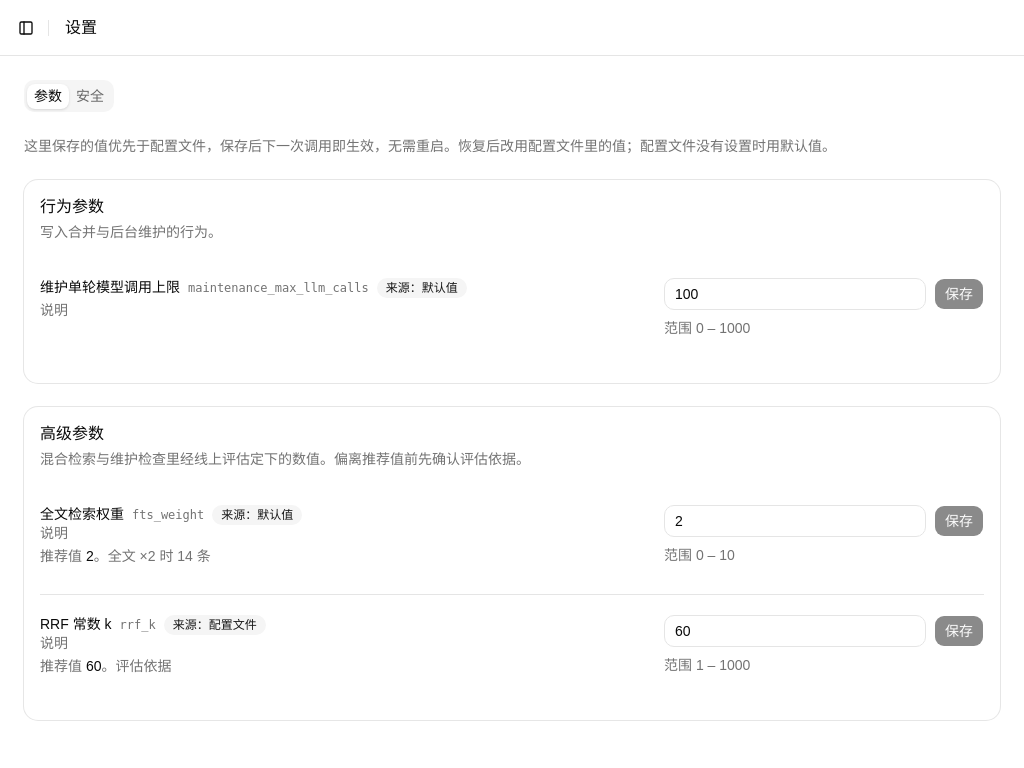
Test: saving a tuning value marks it as a console value and warns it departs from the recommendation
The width and height of the screenshot is (1024, 768).
Replace the text in the field labelled "全文检索权重" with "1". click: (795, 521)
box: [664,505,926,537]
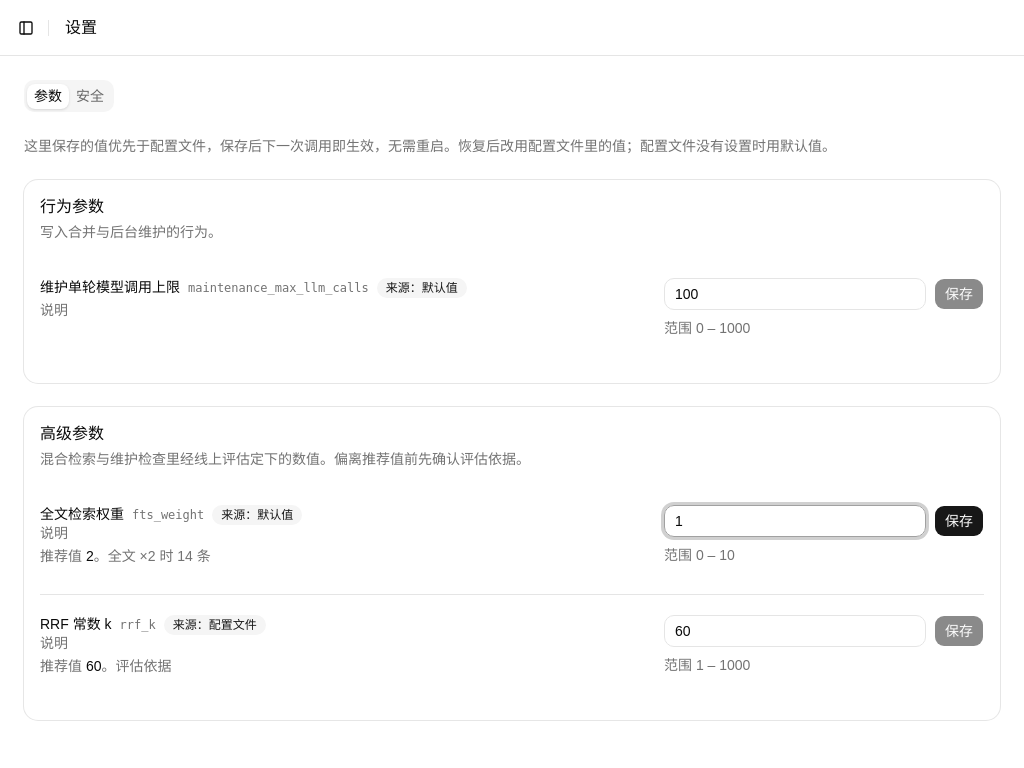
Click the button "保存" in the row of "fts_weight". click: (959, 521)
box: [934,505,984,537]
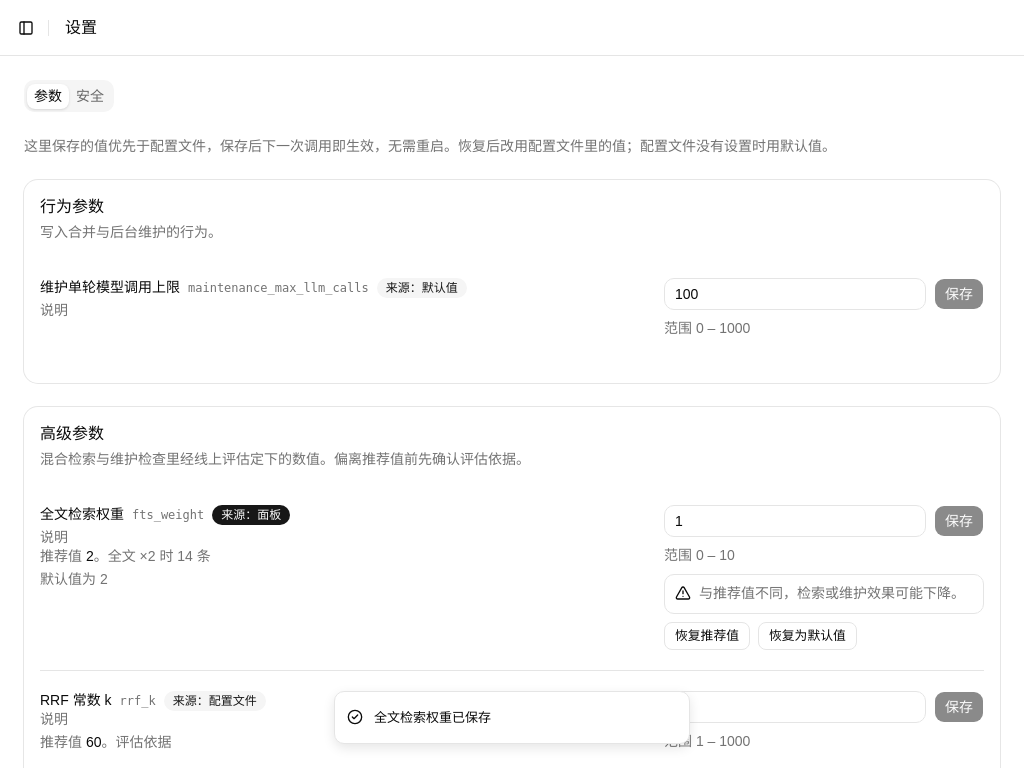
Expected: the text "全文检索权重已保存" is shown, [374,708,491,727]
Expected: the text "来源：面板" is shown, [212,505,290,525]
Expected: the text "与推荐值不同，检索或维护效果可能下降。" is shown, [699,583,973,603]
Click the button "恢复推荐值". click: (707, 636)
box: [664,622,750,650]
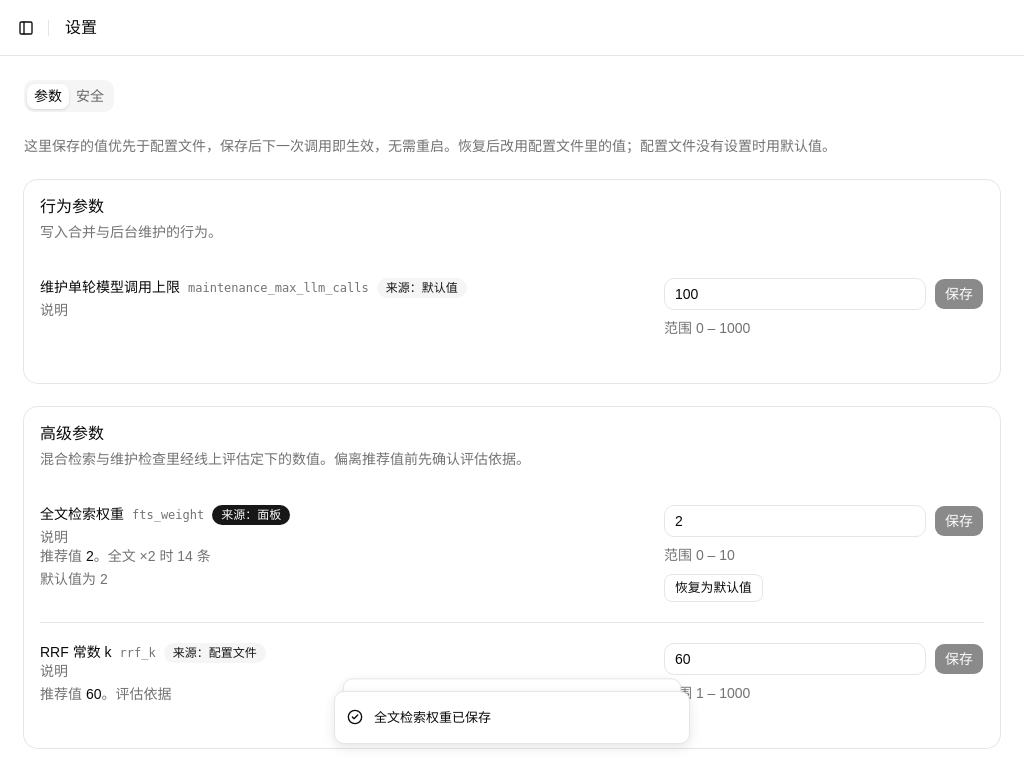
Expected: the field showing "2" is shown, [664,505,926,537]
Expected: the text "与推荐值不同" is gone
